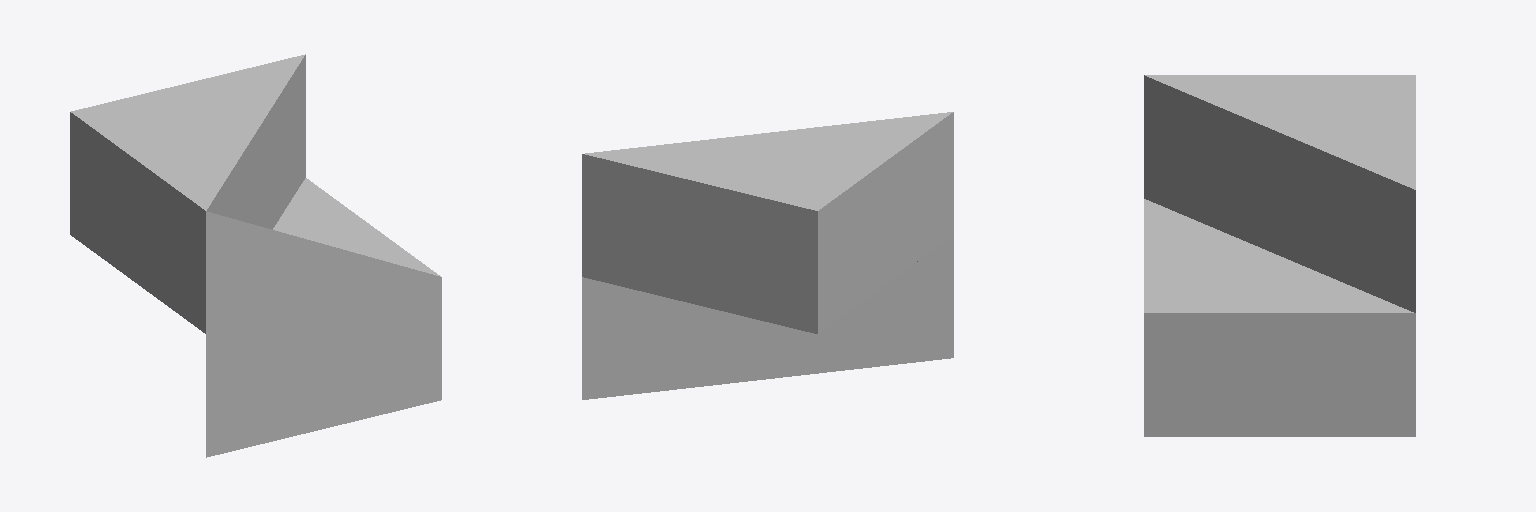
File: Stair2.obj
3 renders of one model, left to right at view 1: azimuth 30°, elevation 25°; view 2: azimuth 150°, elevation 25°; view 3: azimuth 270°, elevation 25°, orthographic.
Parts seen in each view (by area): view 1: Stair2_Cube.001; view 2: Stair2_Cube.001; view 3: Stair2_Cube.001.
Boxes of the visible parts, x1,y1,x2,y2 form: Stair2_Cube.001: [70, 54, 441, 457]; Stair2_Cube.001: [582, 112, 953, 399]; Stair2_Cube.001: [1144, 75, 1415, 436].
Size of the model in its own units: 1 by 1 by 1.